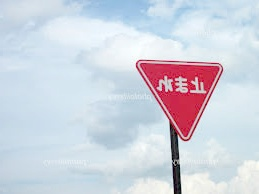Regulatory_sign_triangle: (133, 54, 224, 142)
